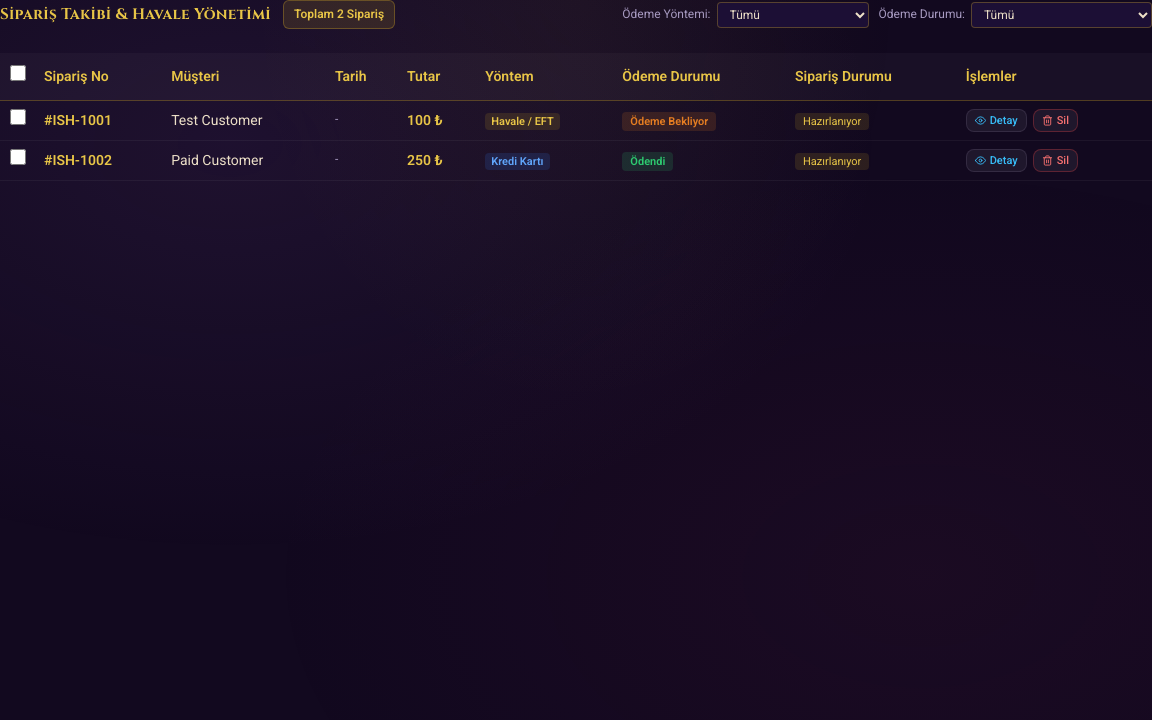
OrdersSection component › fetches one detail request with the order list id
Click the button "Detay" in the row of "ISH-1001" at [996, 120], box [966,109,1027,132]
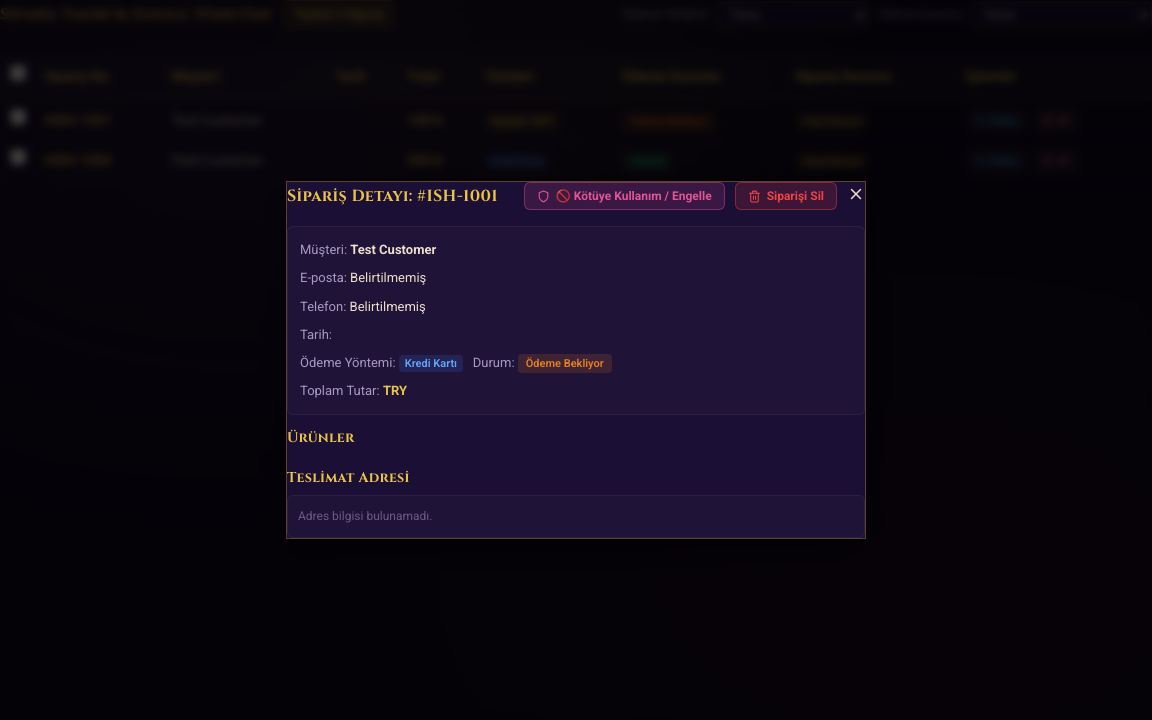
Result: the heading "Sipariş Detayı: #ISH-1001" is shown at [287,186,498,207]
